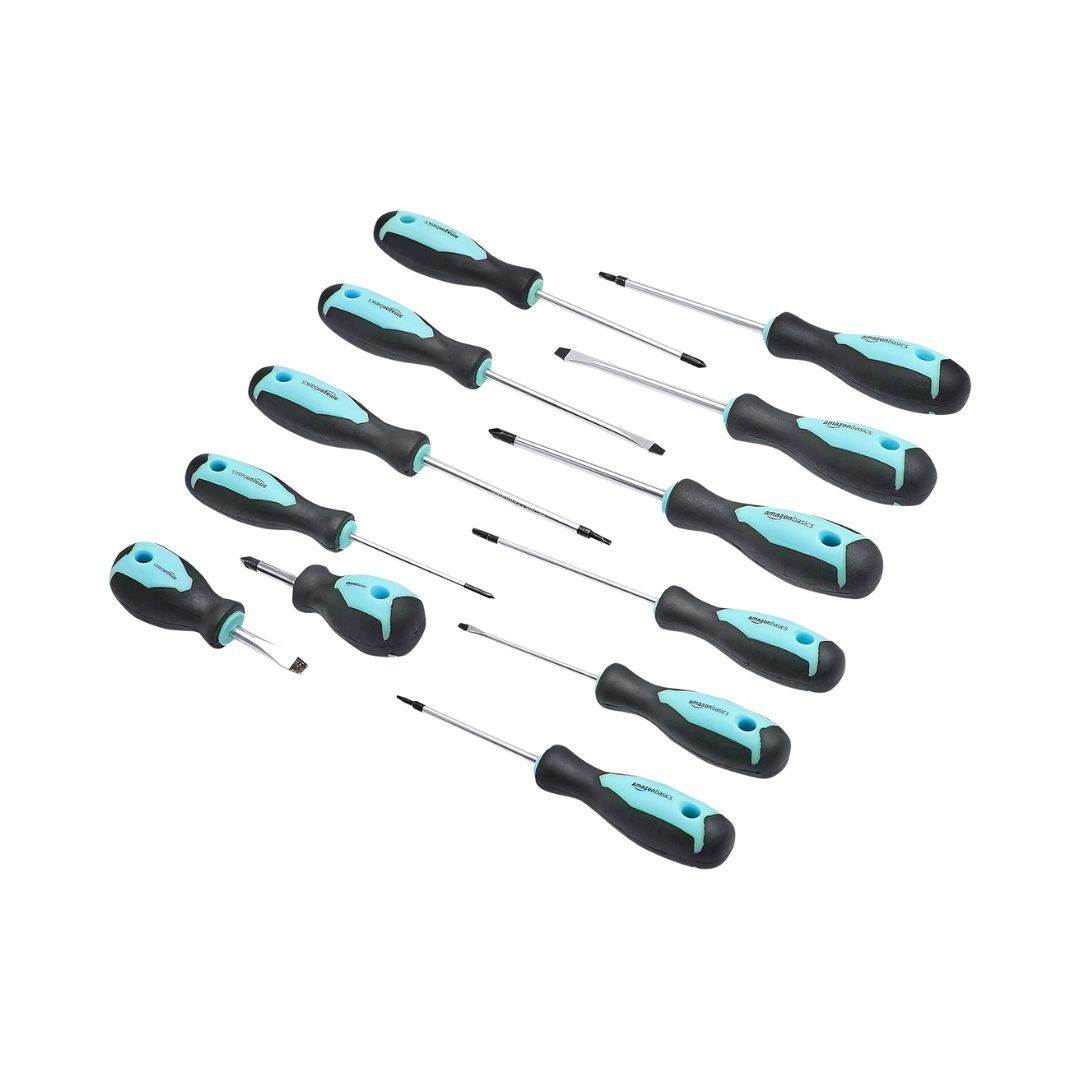screwdriver: (486, 422, 886, 601), (240, 364, 614, 547), (465, 522, 852, 698), (389, 688, 741, 876), (554, 342, 938, 508), (458, 607, 800, 787), (315, 285, 666, 458), (595, 271, 974, 418), (374, 207, 703, 367), (186, 442, 501, 602), (106, 542, 311, 684), (235, 558, 423, 658)
